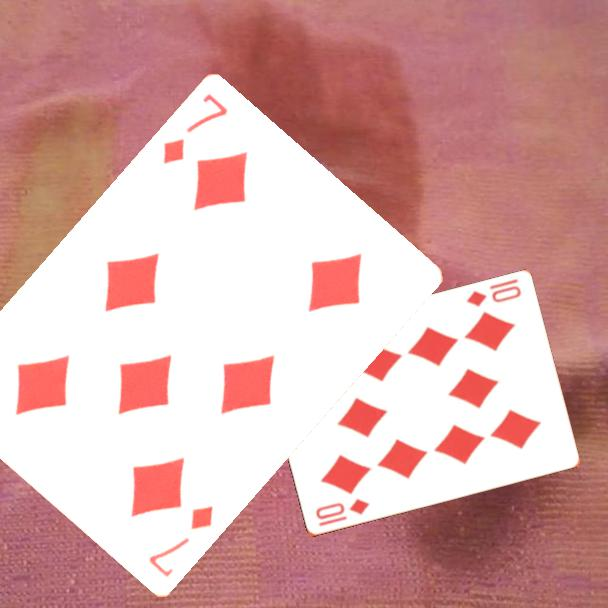d07: (145, 502, 217, 581), (159, 90, 231, 168)
d10: (312, 495, 372, 530), (463, 276, 524, 310)
